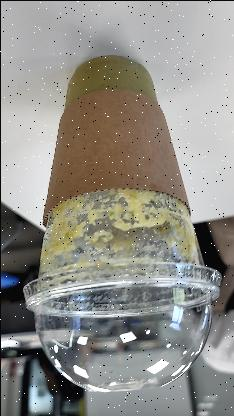Others: (25, 45, 222, 401), (25, 258, 221, 390)
